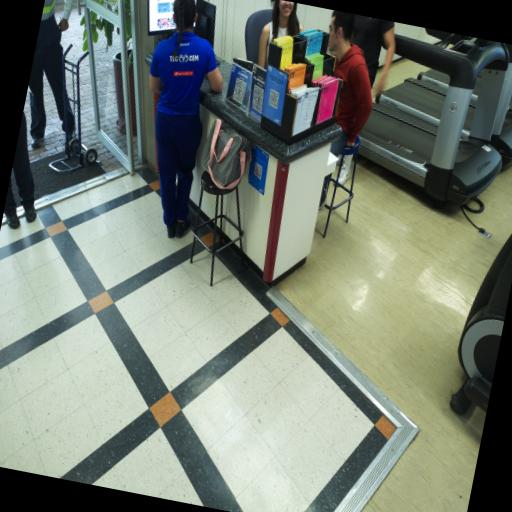person: (150, 0, 223, 237), (28, 0, 75, 148), (328, 11, 372, 155), (353, 15, 395, 95), (258, 0, 302, 68), (12, 113, 36, 222)
